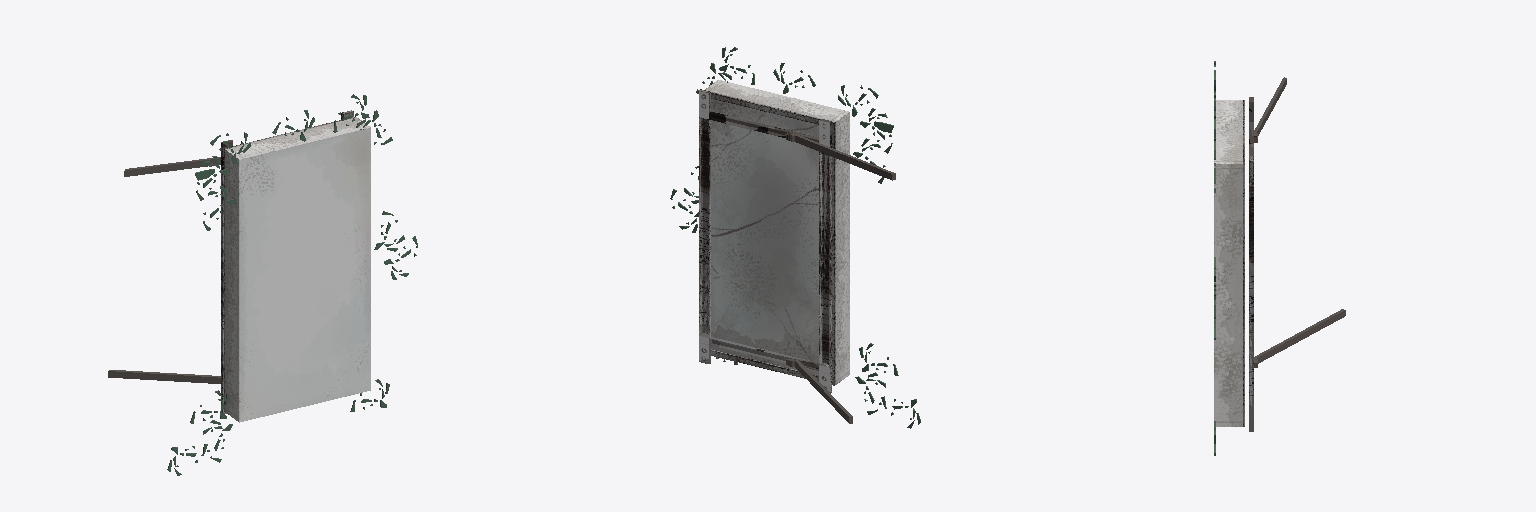
3 renders of one model, left to right at view 1: azimuth 30°, elevation 25°; view 2: azimuth 150°, elevation 25°; view 3: azimuth 270°, elevation 25°, orthographic.
Visible parts, largest first — view 1: Plane, Plane.001; view 2: Plane, Plane.001; view 3: Plane.
Boxes of the visible parts, box(x1,y1,x2,y2) form: Plane: box(108, 110, 370, 422); Plane.001: box(167, 94, 417, 475); Plane: box(699, 80, 895, 423); Plane.001: box(670, 47, 920, 428); Plane: box(1214, 77, 1345, 431).
Bounding box in the file's own units: 2.06 × 2.58 × 0.904.
4 materials, 1 textured.